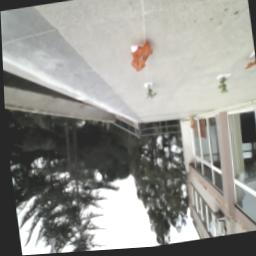herb: (216, 79, 230, 98), (143, 86, 156, 104)
wild: (127, 41, 157, 77)
